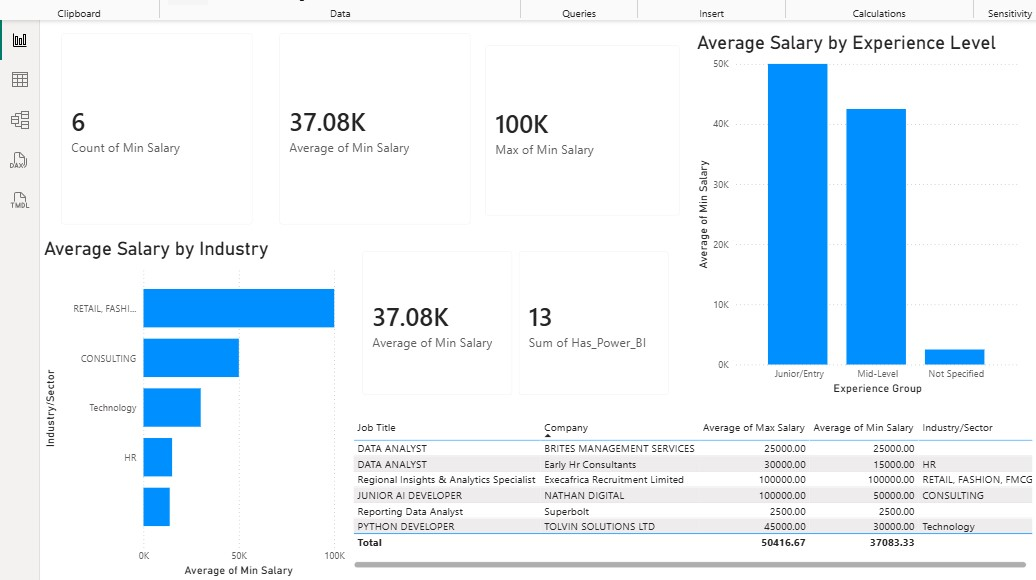

This screenshot's page, from the dashboard's own definition file:
{"tool":"powerbi","page":{"name":"Salary overview","canvas":[1280,720],"ordinal":2},"visuals":[{"type":"cardVisual","fields":{"Data":["CountNonNull(powerbi_nairobi_jobs.Min Salary)"]},"box":[10,0,280,280],"z":0},{"type":"cardVisual","fields":{"Data":["Avg(powerbi_nairobi_jobs.Min Salary)"]},"box":[290.4,0,280.2,280.2],"z":1},{"type":"cardVisual","fields":{"Data":["Max(powerbi_nairobi_jobs.Min Salary)"]},"box":[555.2,15.4,284,253.2],"z":2},{"type":"lineClusteredColumnComboChart","title":"Average Salary by Experience Level","fields":{"Category":["powerbi_nairobi_jobs.Experience Group"],"Y":["Avg(powerbi_nairobi_jobs.Min Salary)"]},"box":[839.2,15.4,424.1,470.4],"z":3},{"type":"clusteredBarChart","title":"Average Salary by Industry","fields":{"Category":["powerbi_nairobi_jobs.Industry/Sector"],"Y":["Avg(powerbi_nairobi_jobs.Min Salary)"]},"box":[0,280.2,397.1,439.5],"z":4},{"type":"tableEx","fields":{"Values":["powerbi_nairobi_jobs.Job Title","powerbi_nairobi_jobs.Company","Avg(powerbi_nairobi_jobs.Max Salary)","Avg(powerbi_nairobi_jobs.Min Salary)","powerbi_nairobi_jobs.Industry/Sector"]},"box":[397.1,507.6,882.9,201.8],"z":5},{"type":"cardVisual","fields":{"Data":["Avg(powerbi_nairobi_jobs.Min Salary)","Sum(powerbi_nairobi_jobs.Has_Power_BI)"]},"box":[397.1,280.2,429.2,219.8],"z":6}]}

Visuals, with their boxes on the page's 1280x720 design canvas (x1, y1, x2, y2). These are canvas units, not pixel positions in the 1036x580 screenshot, which may show the page scaled, cropped or inside an application window:
cardVisual - CountNonNull(powerbi_nairobi_jobs.Min Salary): 10,0,290,280
cardVisual - Avg(powerbi_nairobi_jobs.Min Salary): 290,0,571,280
cardVisual - Max(powerbi_nairobi_jobs.Min Salary): 555,15,839,269
"Average Salary by Experience Level" lineClusteredColumnComboChart: 839,15,1263,486
"Average Salary by Industry" clusteredBarChart: 0,280,397,720
tableEx - powerbi_nairobi_jobs.Job Title x powerbi_nairobi_jobs.Company: 397,508,1280,709
cardVisual - Avg(powerbi_nairobi_jobs.Min Salary) x Sum(powerbi_nairobi_jobs.Has_Power_BI): 397,280,826,500
